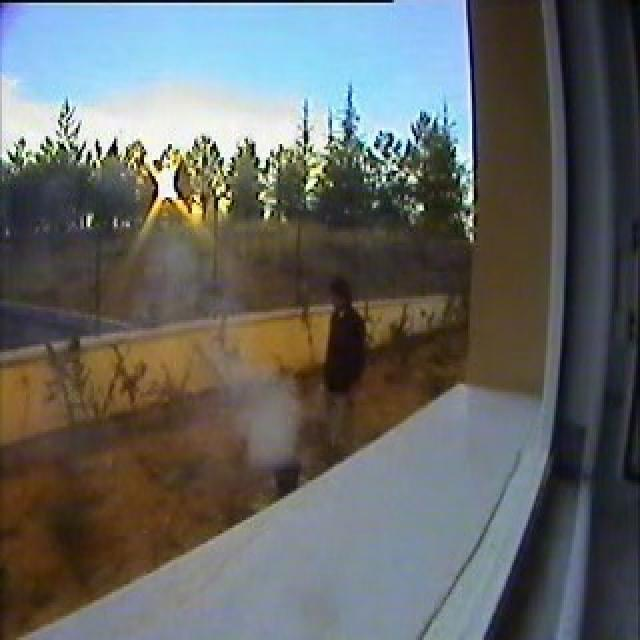Smoke: (234, 373, 298, 465)
